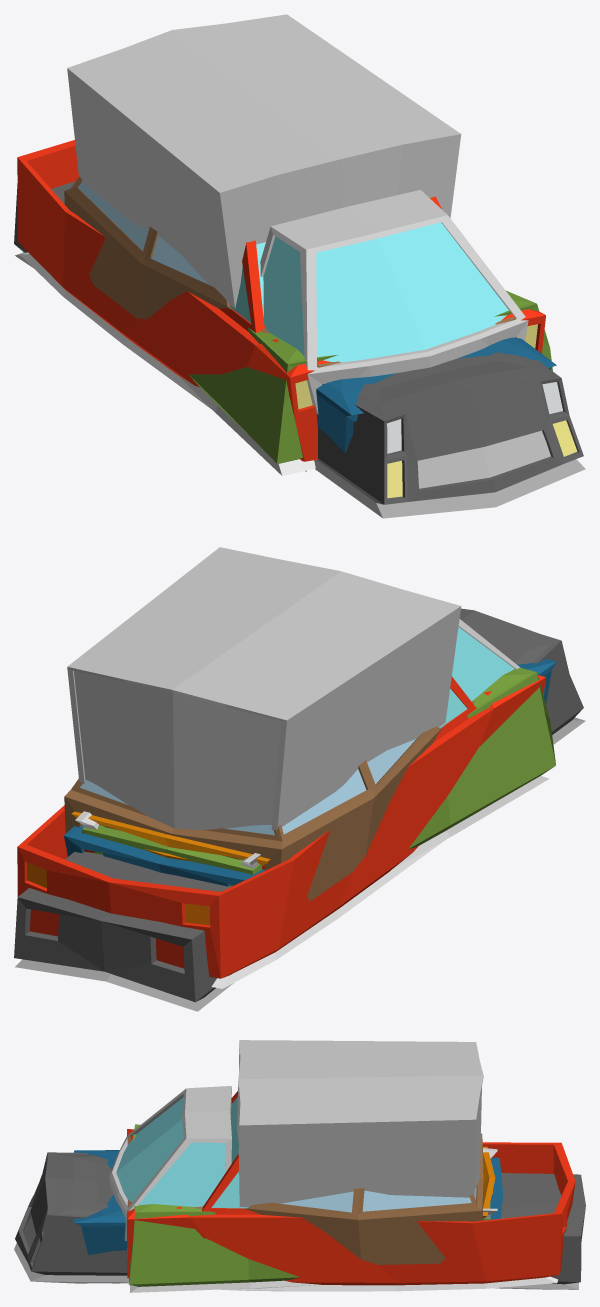
File: ManyCarsCharacter.glb
The picture shows the model from 3 angles, top to bottom: view 1: azimuth 30°, elevation 25°; view 2: azimuth 150°, elevation 25°; view 3: azimuth 270°, elevation 25°; orthographic projection. The views are drawn at different scales.
Parts seen in each view (by area): view 1: Lorry, Limo, PickupTruck, Sedan, FamilyCar, MuscleCar; view 2: Lorry, PickupTruck, Limo, Sedan, FamilyCar, MuscleCar, Racecar; view 3: Lorry, PickupTruck, Limo, Sedan, FamilyCar, MuscleCar, Racecar.
Part boxes in pixels (x1=…): Lorry: x1=67, y1=14, x2=528, y2=414; Limo: x1=14, y1=181, x2=585, y2=518; PickupTruck: x1=17, y1=140, x2=545, y2=472; Sedan: x1=64, y1=176, x2=515, y2=367; FamilyCar: x1=178, y1=290, x2=552, y2=475; MuscleCar: x1=316, y1=337, x2=556, y2=453; Lorry: x1=67, y1=547, x2=520, y2=830; PickupTruck: x1=17, y1=675, x2=545, y2=988; Limo: x1=14, y1=608, x2=585, y2=1011; Sedan: x1=64, y1=700, x2=474, y2=901; FamilyCar: x1=82, y1=667, x2=555, y2=886; MuscleCar: x1=64, y1=659, x2=556, y2=886; Racecar: x1=71, y1=811, x2=270, y2=865; Lorry: x1=109, y1=1040, x2=483, y2=1240; PickupTruck: x1=127, y1=1091, x2=575, y2=1291; Limo: x1=14, y1=1152, x2=585, y2=1289; Sedan: x1=127, y1=1133, x2=483, y2=1264; FamilyCar: x1=129, y1=1124, x2=490, y2=1292; MuscleCar: x1=73, y1=1148, x2=503, y2=1283; Racecar: x1=483, y1=1146, x2=495, y2=1218.
Bounding box in the file's own units: 5.09 × 4.47 × 12.48.
Materials: 1 (1 with a texture image).
